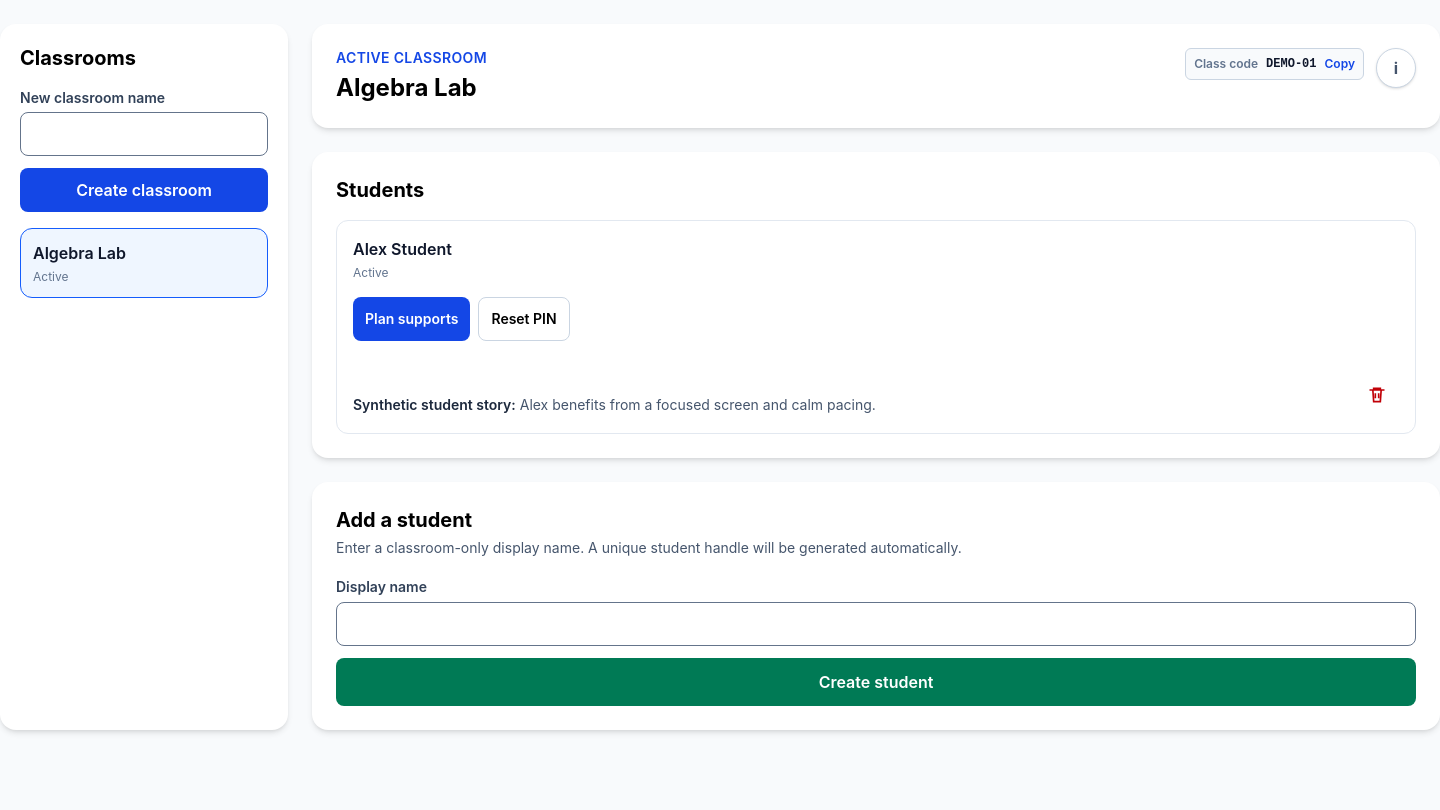
Test case: ClassroomWorkspace › creates a student without storing or logging the returned one-time PIN
Check: the heading "Algebra Lab" is shown, box [336,72,487,104]
Type "Alex Student" into the field labelled "Display name". click: (876, 624)
box: [336,602,1416,646]
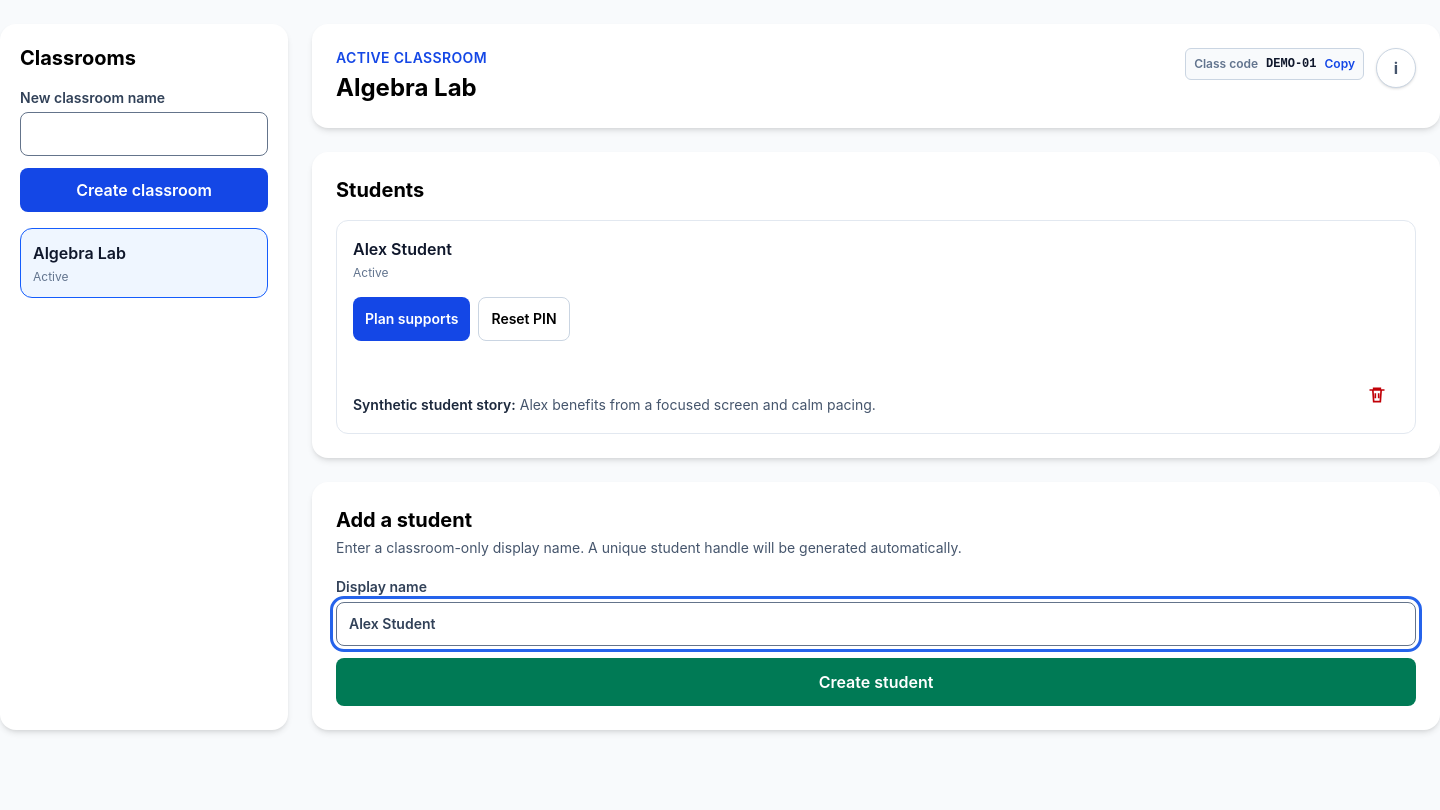
Click the button "Create student". click: click(876, 682)
box: [336,658,1416,706]
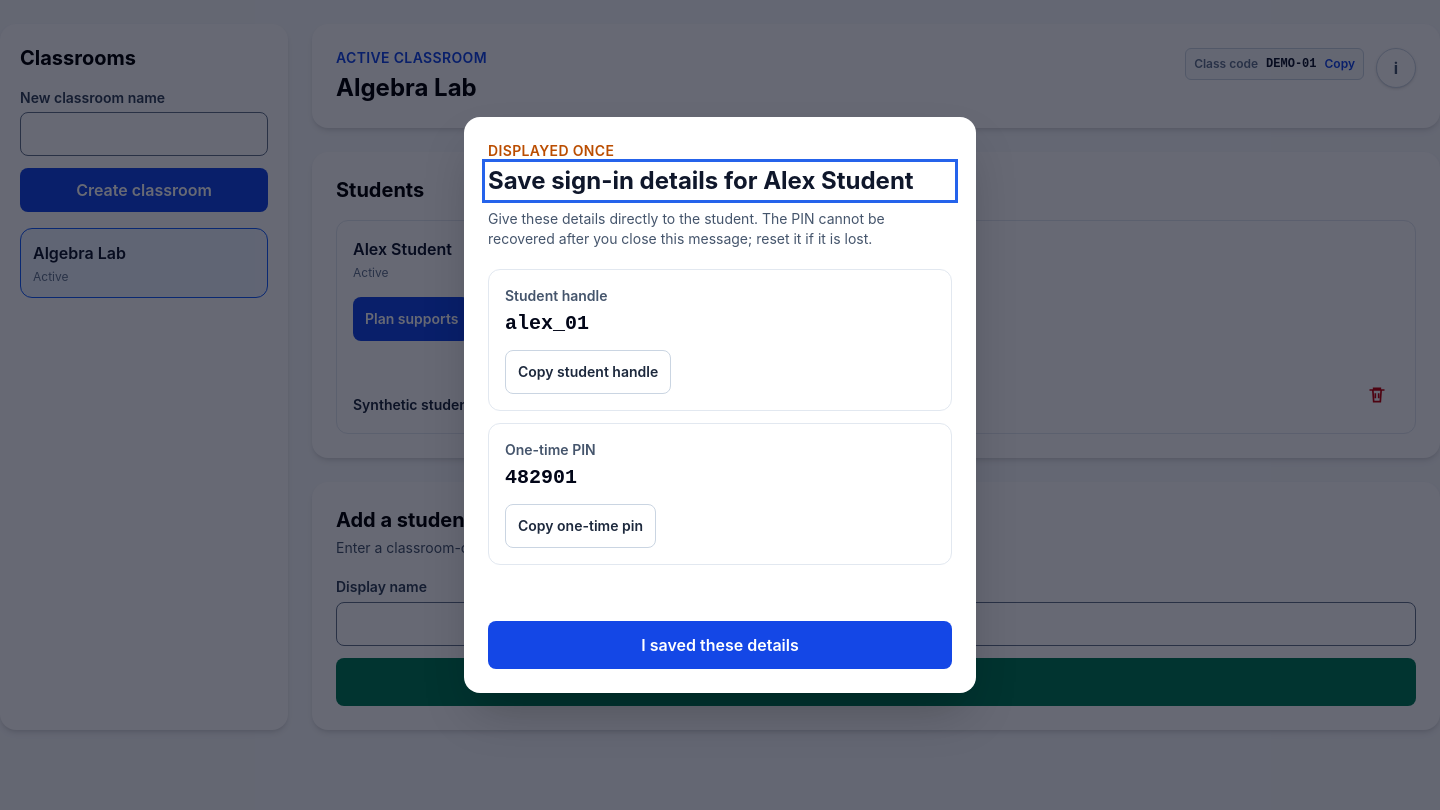
Check: the dialog shows "alex_01", box [505,312,589,335]
Check: the dialog shows "482901", box [505,466,577,489]
Click the button "I saved these details". click: click(720, 645)
box: [488,621,952,669]
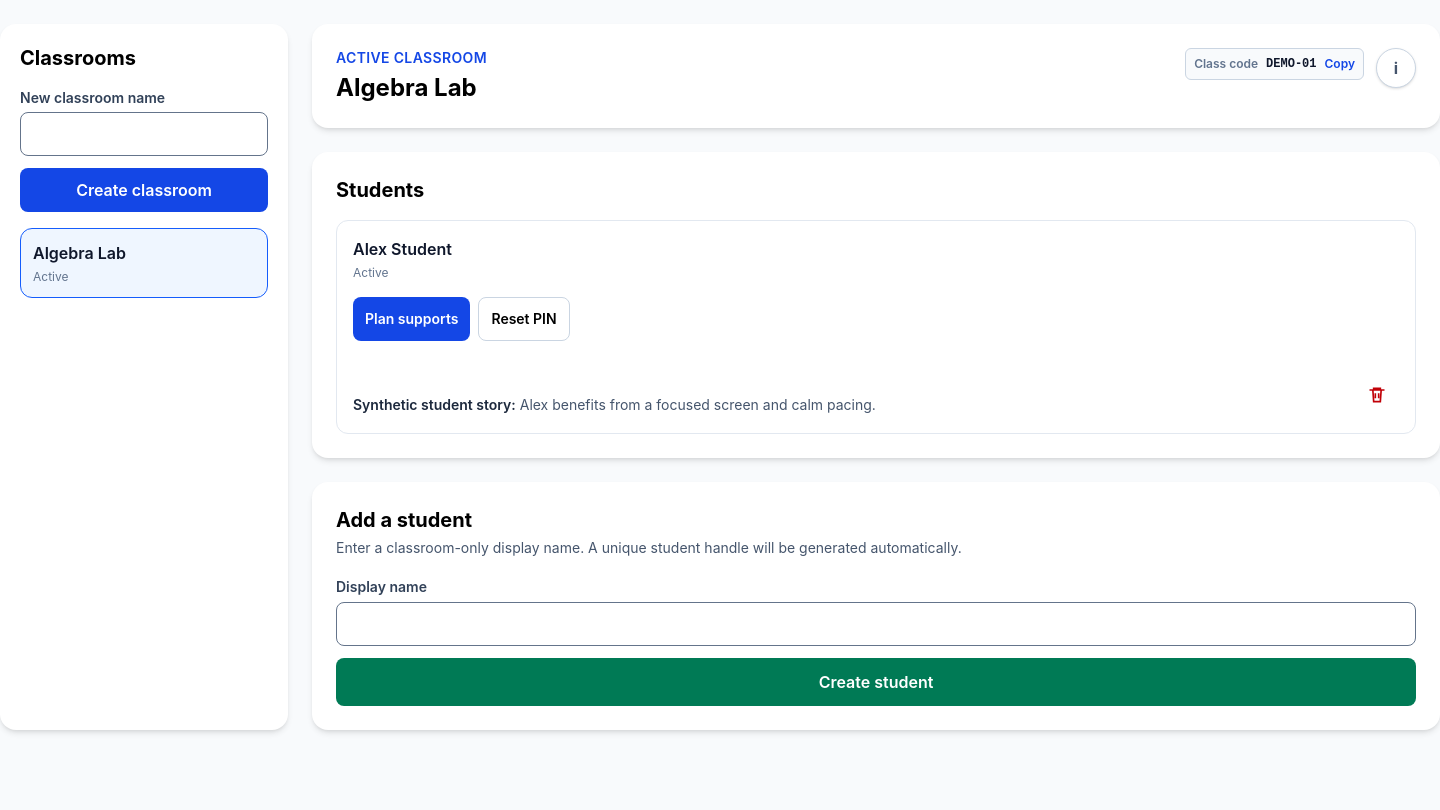
Check: the text "482901" is gone
